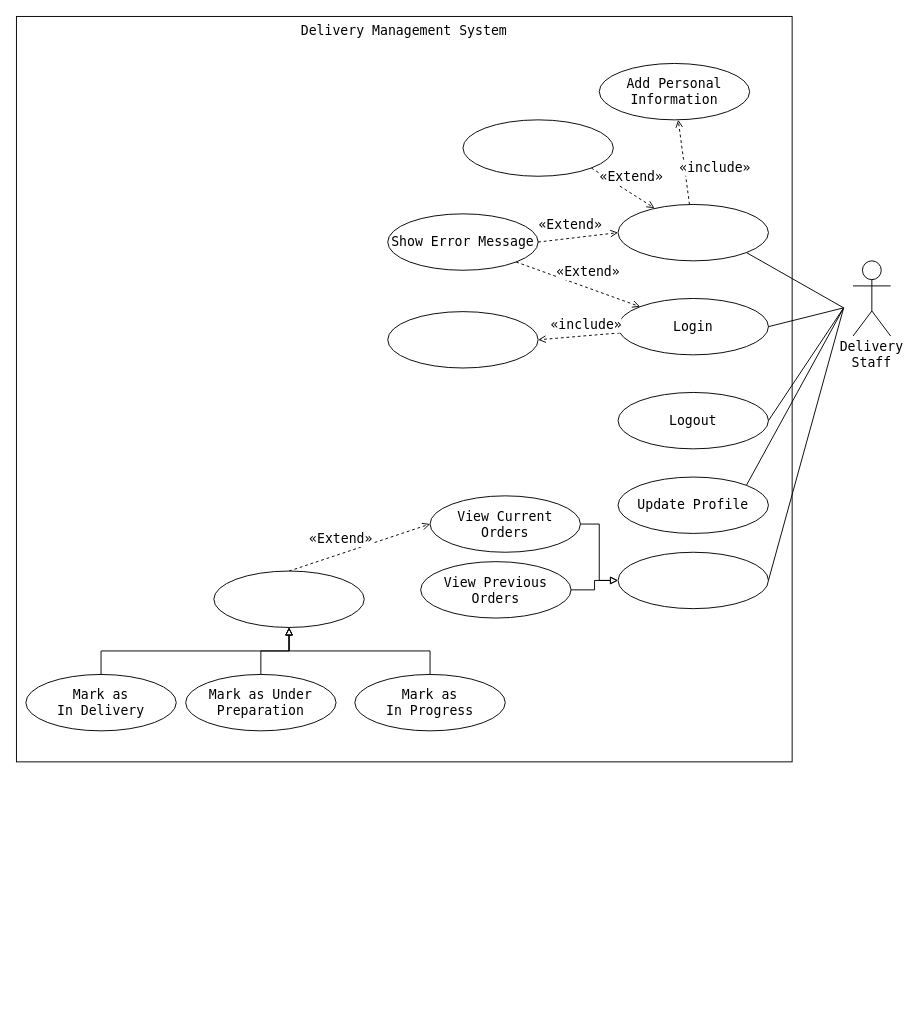
The diagram is 919 pixels wide and 1011 high, and some of its shapes have lost their labels. Here are the shapes that lost their labels. From the top down, the centre of each, then its label:
At [537,147]: "Rejected".
At [692,232]: "Register".
At [462,339]: "Verify Account".
At [288,598]: "Update Delivery Status".
At [692,580]: "View Orders".
